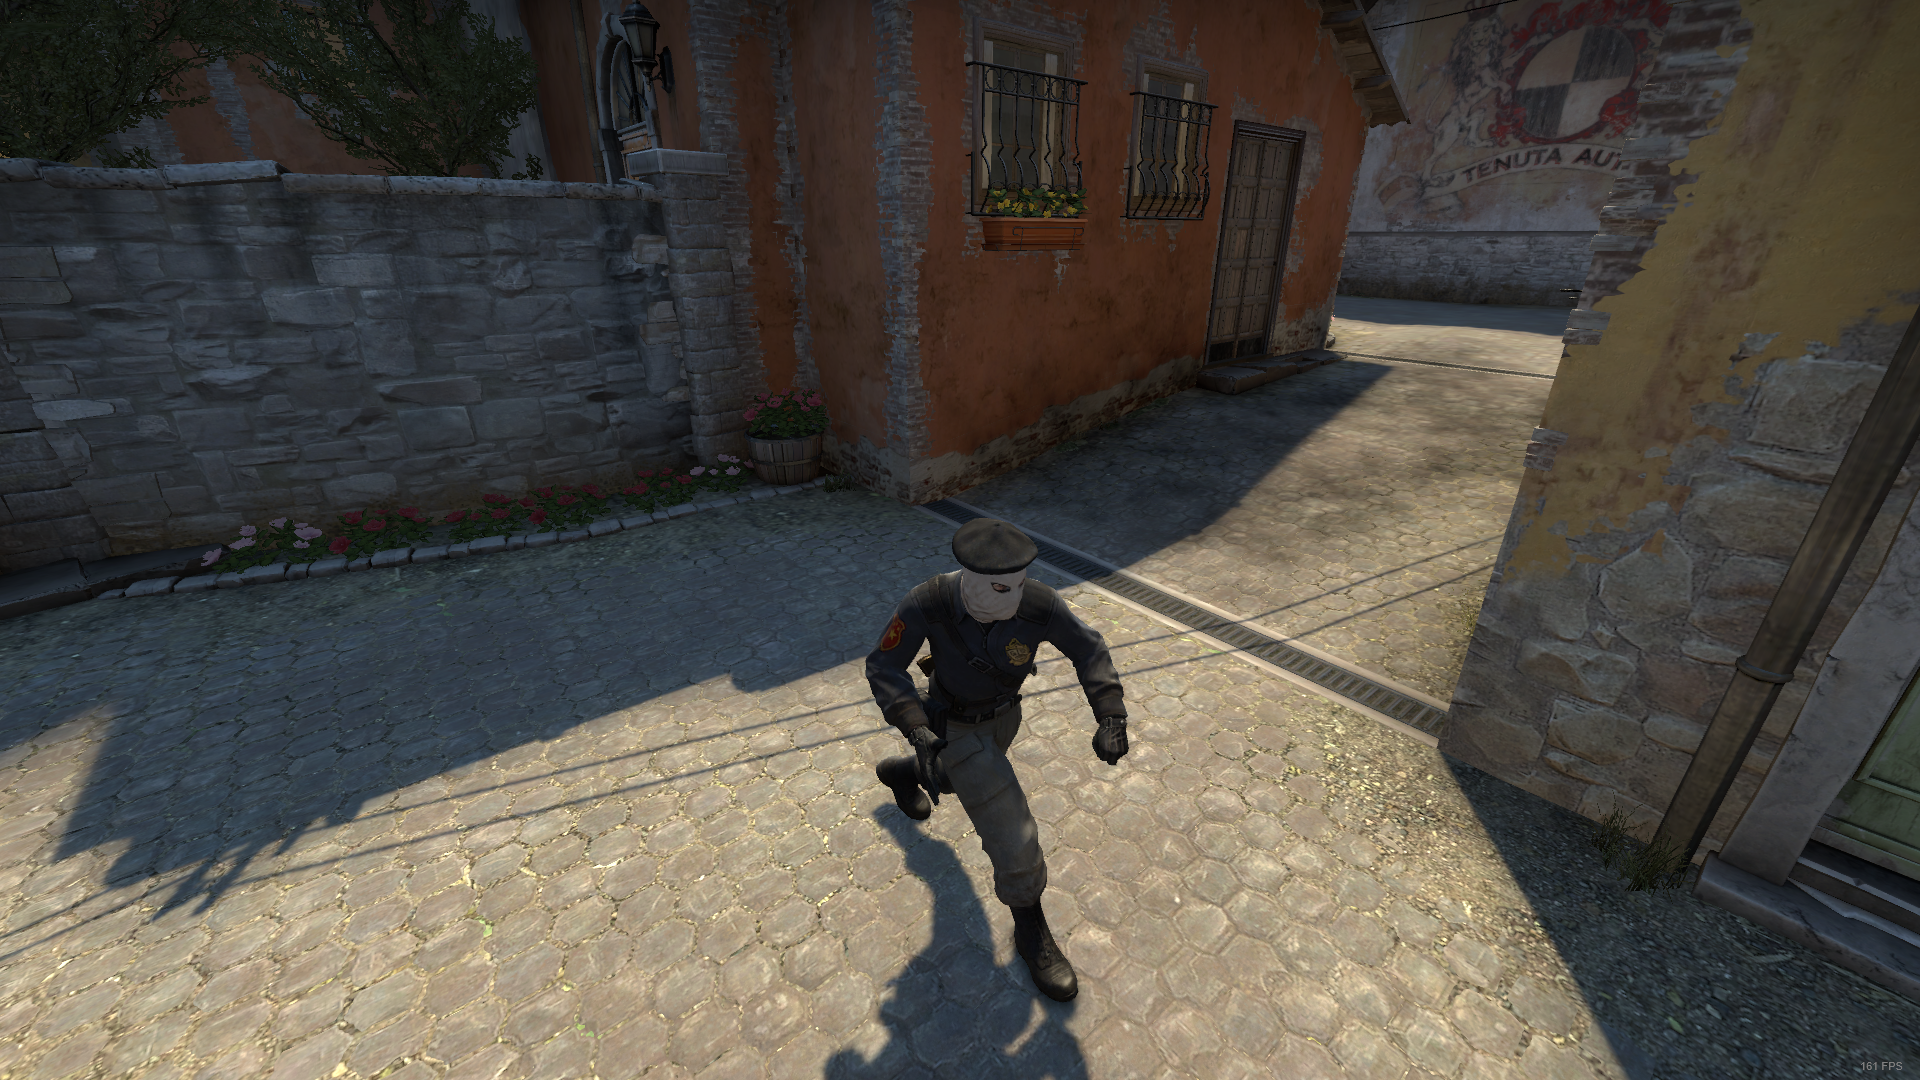t: (837, 510, 1150, 1029)
